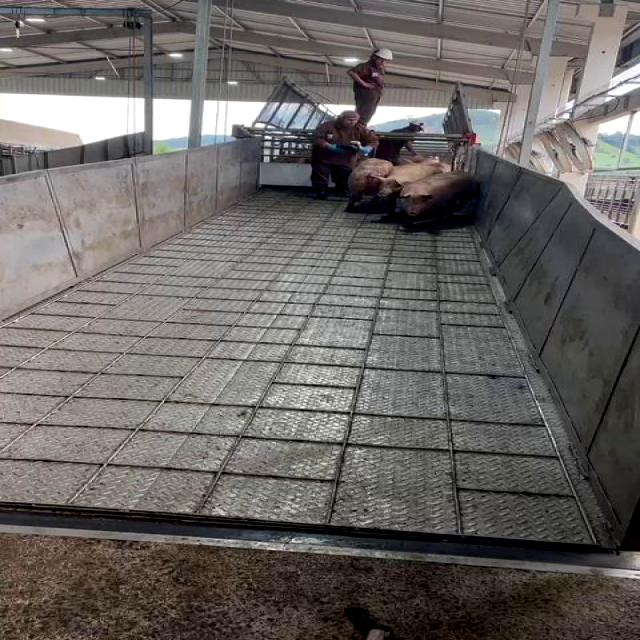pig: (399, 171, 479, 227), (378, 156, 451, 216), (348, 159, 394, 211)
